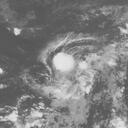cyclone: (53, 52, 76, 73)
